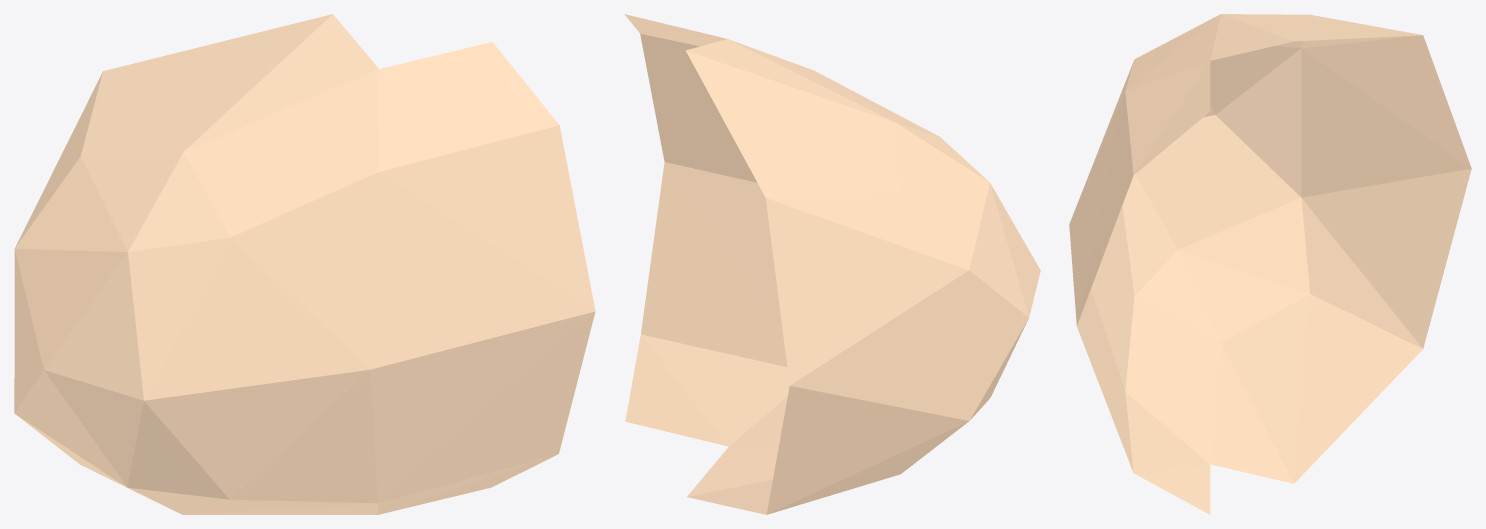
Rendered from head3.glb.
3 renders of one model, left to right at view 1: azimuth 30°, elevation 25°; view 2: azimuth 150°, elevation 25°; view 3: azimuth 270°, elevation 25°, orthographic. The views are drawn at different scales.
Visible parts, largest first — view 1: tomodachi-2026-03-06-18-14-14-811.007; view 2: tomodachi-2026-03-06-18-14-14-811.007; view 3: tomodachi-2026-03-06-18-14-14-811.007.
Boxes of the visible parts, x1,y1,x2,y2 form: tomodachi-2026-03-06-18-14-14-811.007: (14, 14, 595, 514); tomodachi-2026-03-06-18-14-14-811.007: (624, 14, 1040, 514); tomodachi-2026-03-06-18-14-14-811.007: (1069, 14, 1471, 514).
Size of the model in its own units: 1.06 by 1.04 by 0.8567.
Materials: 1 (1 with a texture image).
